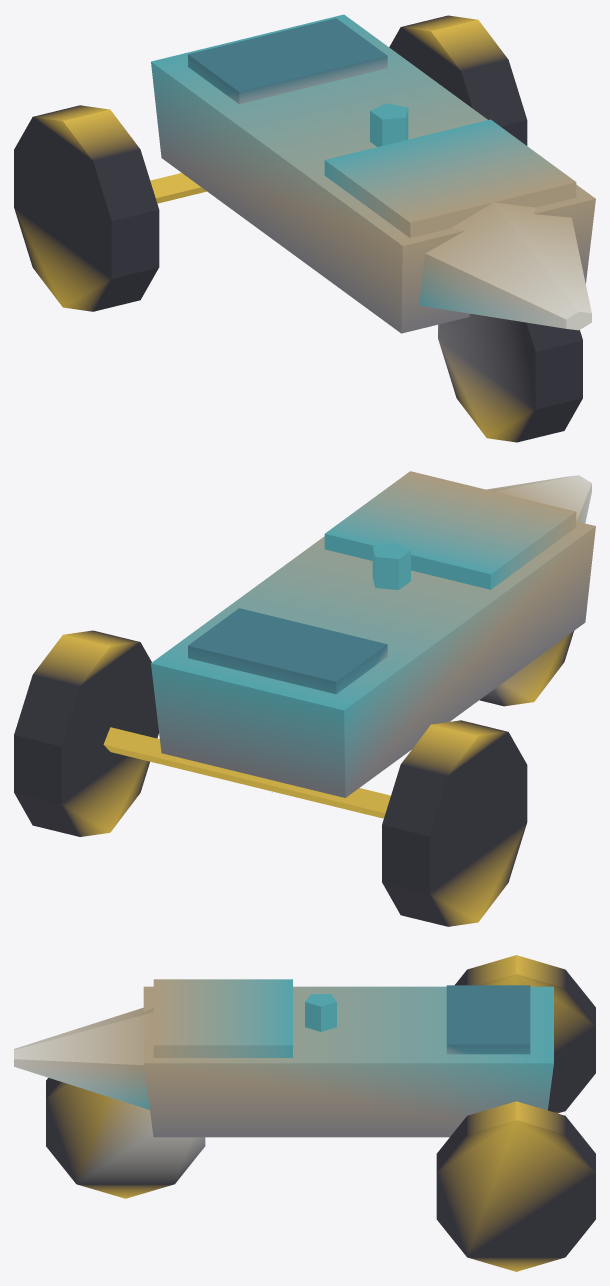
The model's file is yacht_hull_0.glb.
The picture shows the model from 3 angles, top to bottom: view 1: azimuth 30°, elevation 25°; view 2: azimuth 150°, elevation 25°; view 3: azimuth 270°, elevation 25°; orthographic projection. The views are drawn at different scales.
Parts seen in each view (by area): view 1: YachtHull; view 2: YachtHull; view 3: YachtHull.
Part boxes in pixels (x1,y1,x2,y2): YachtHull: [14, 14, 595, 442]; YachtHull: [14, 471, 595, 926]; YachtHull: [14, 955, 595, 1271].
Bounding box in the file's own units: 1.4 × 0.75 × 2.09.
